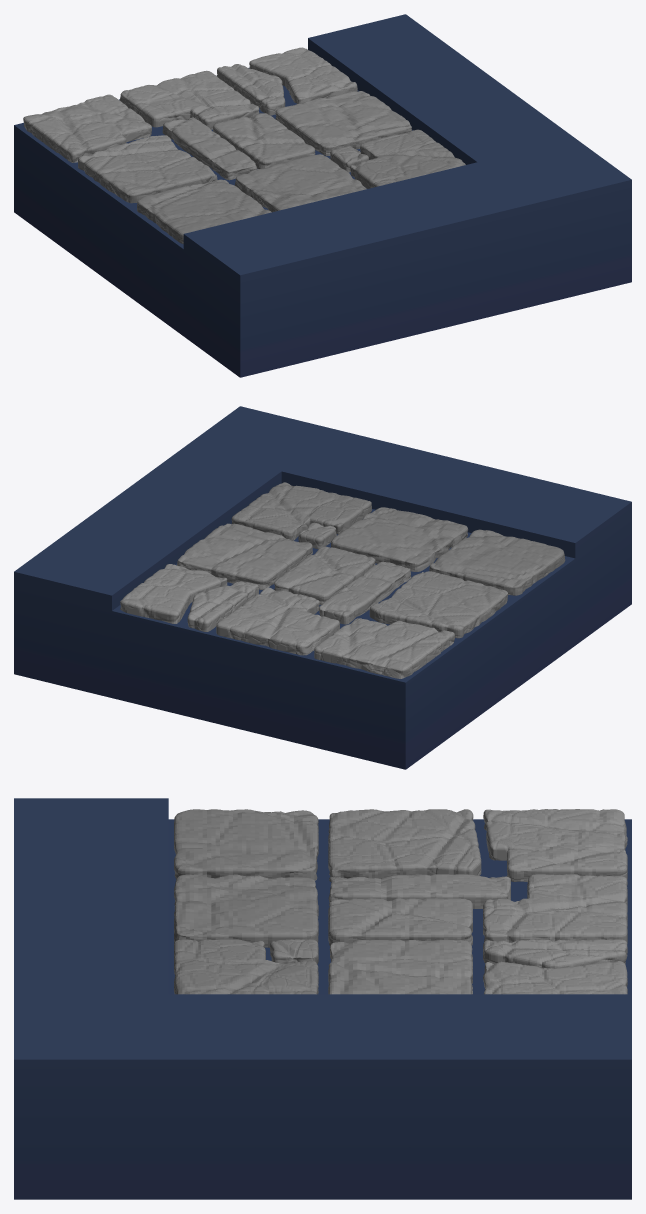
File: Piso-1.fbx
3 renders of one model, top to bottom at view 1: azimuth 30°, elevation 25°; view 2: azimuth 150°, elevation 25°; view 3: azimuth 270°, elevation 25°, orthographic. The views are drawn at different scales.
Visible parts, largest first — view 1: Floor.004, Cube.038; view 2: Floor.004, Cube.038; view 3: Floor.004, Cube.038.
Part boxes in pixels (x1,y1,x2,y2): Floor.004: (14, 14, 631, 377); Cube.038: (23, 47, 465, 243); Floor.004: (14, 406, 631, 769); Cube.038: (120, 482, 565, 678); Floor.004: (14, 798, 631, 1199); Cube.038: (174, 809, 627, 994).
Bounding box in the file's own units: 800 × 200 × 800.
